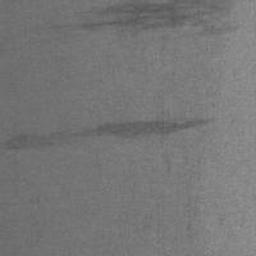Water spot: (1, 118, 219, 154), (46, 0, 238, 38), (251, 0, 256, 10)
